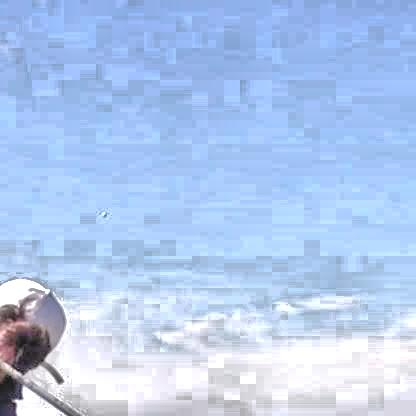golfball: (98, 208, 105, 215)
